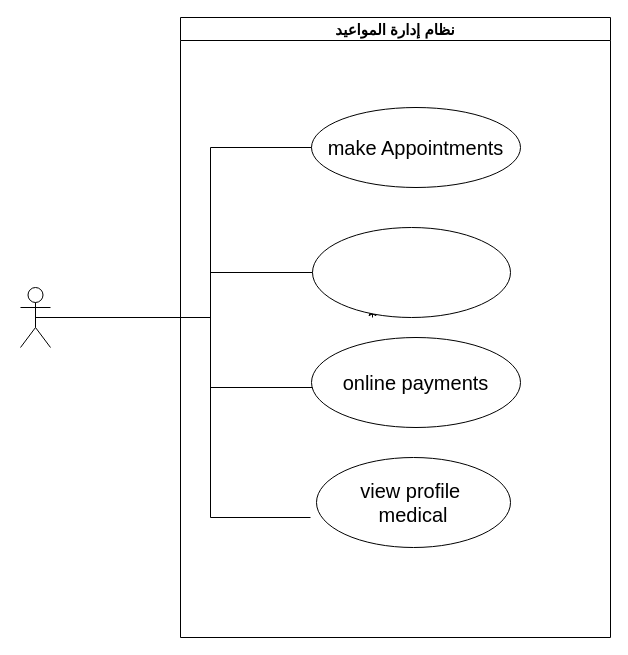
The diagram is 628 pixels wide and 655 high, and some of its shapes have lost their labels. The box of each missing label's shape, as (x1, y1, x2, y2) in pixels:
cancel Appointments: (312, 226, 510, 318)
patient: (20, 286, 50, 348)
